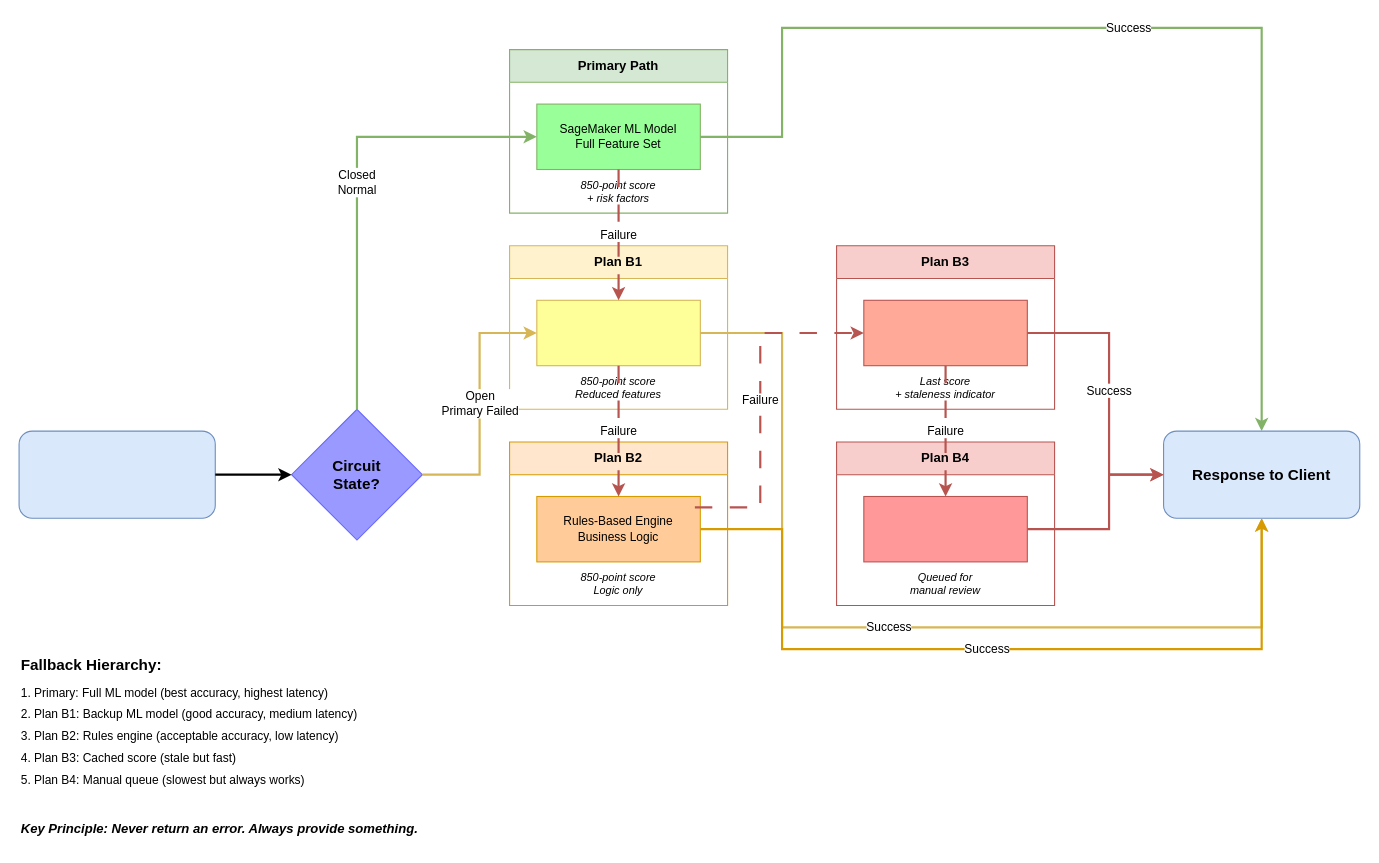
The diagram is 1379 pixels wide and 863 high, and some of its shapes have lost their labels. Here are the shapes that lost their labels. From the top down, the box of each, then its label:
(536, 299, 700, 366): Backup ML Model Different AZ
(863, 299, 1027, 366): Cached Historical Score Last Calculation
(18, 430, 215, 518): Incoming Request Credit Score Calculation
(863, 495, 1027, 562): Manual Review Queue Human Underwriter
